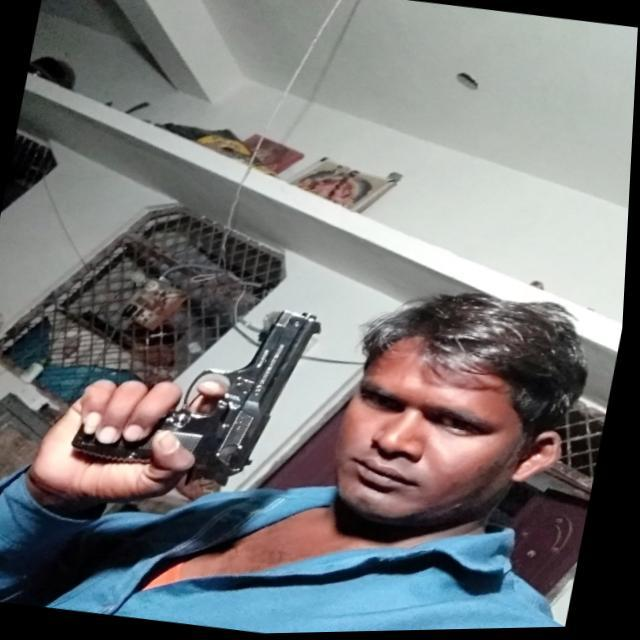weapon: (66, 278, 339, 508)
